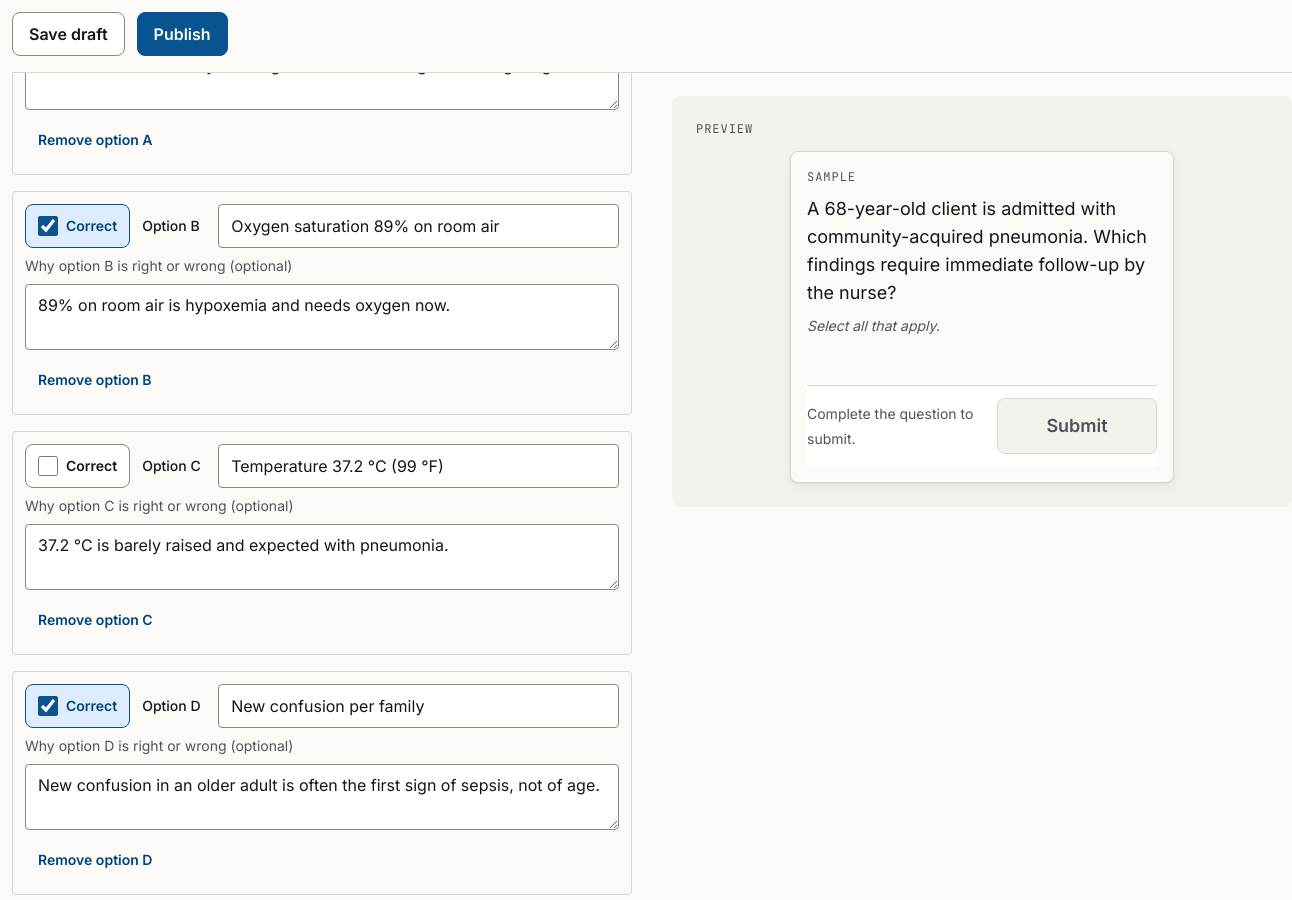
Test: scoring summary in the editor › updates as another correct answer is marked
(page scrolled)
Step 1. Click the checkbox named "Option C is correct" → {"x": 48, "y": 466}, box [38,456,58,476]
(page scrolled)
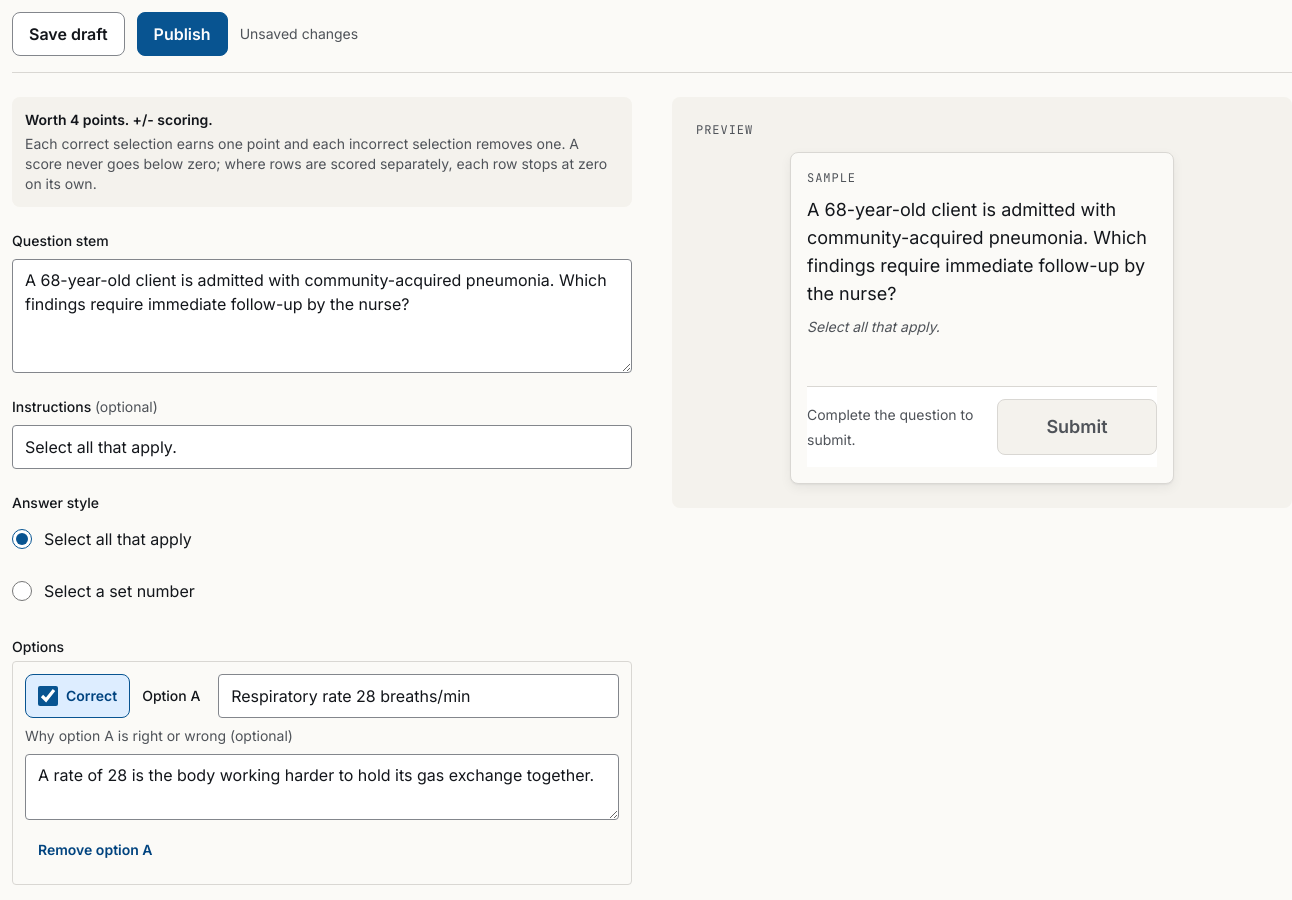
Check: the element "scoring" shows "Worth 4 points. +/- scoring.", box [25,111,213,128]
